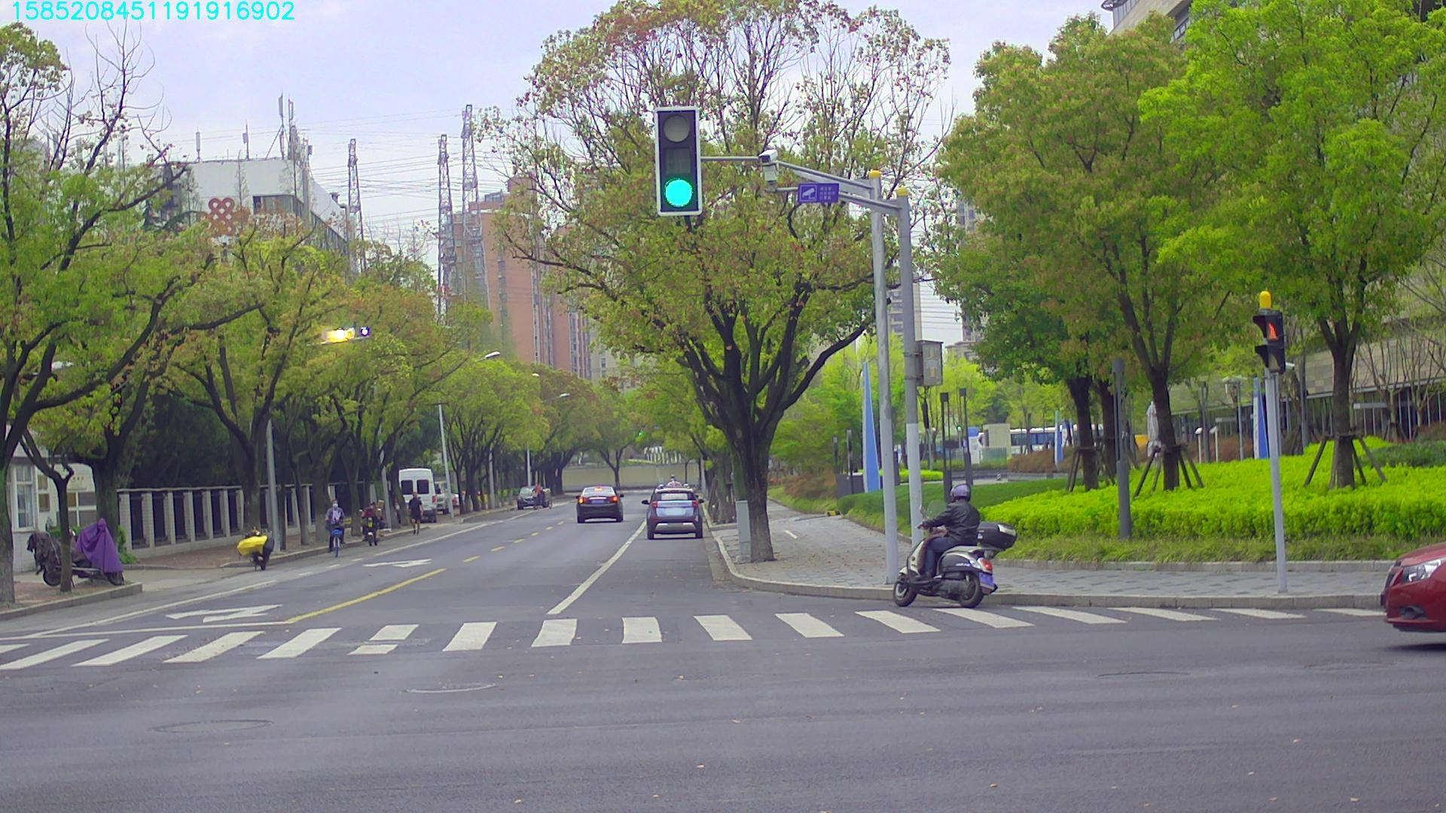green: (655, 108, 698, 212)
